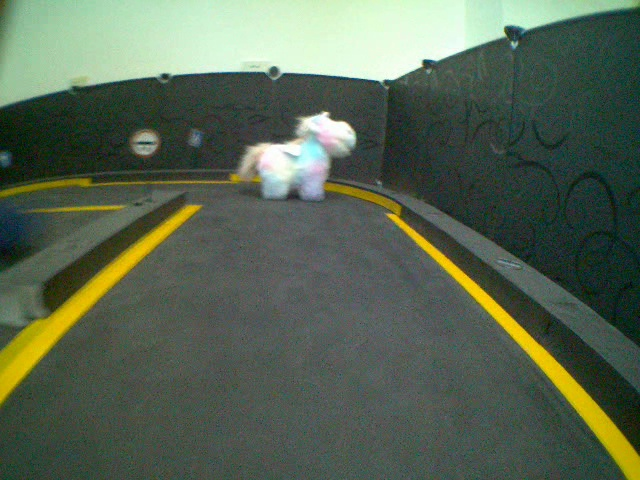unicorn: (241, 109, 358, 203)
